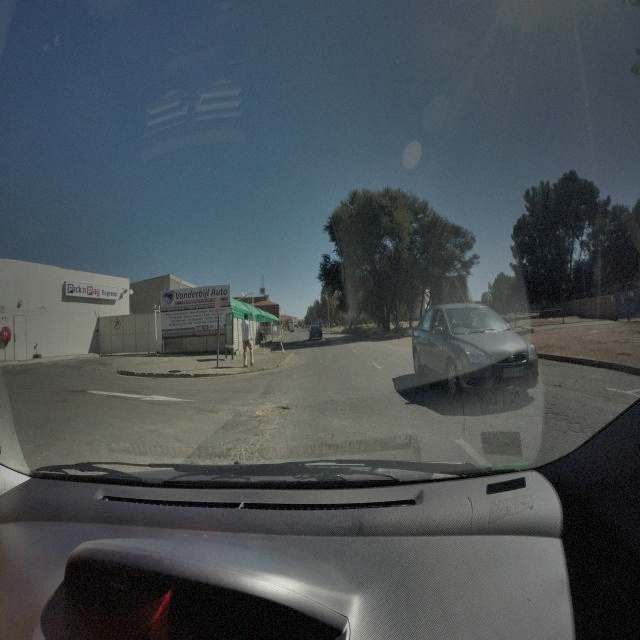pothole: (256, 404, 290, 418)
